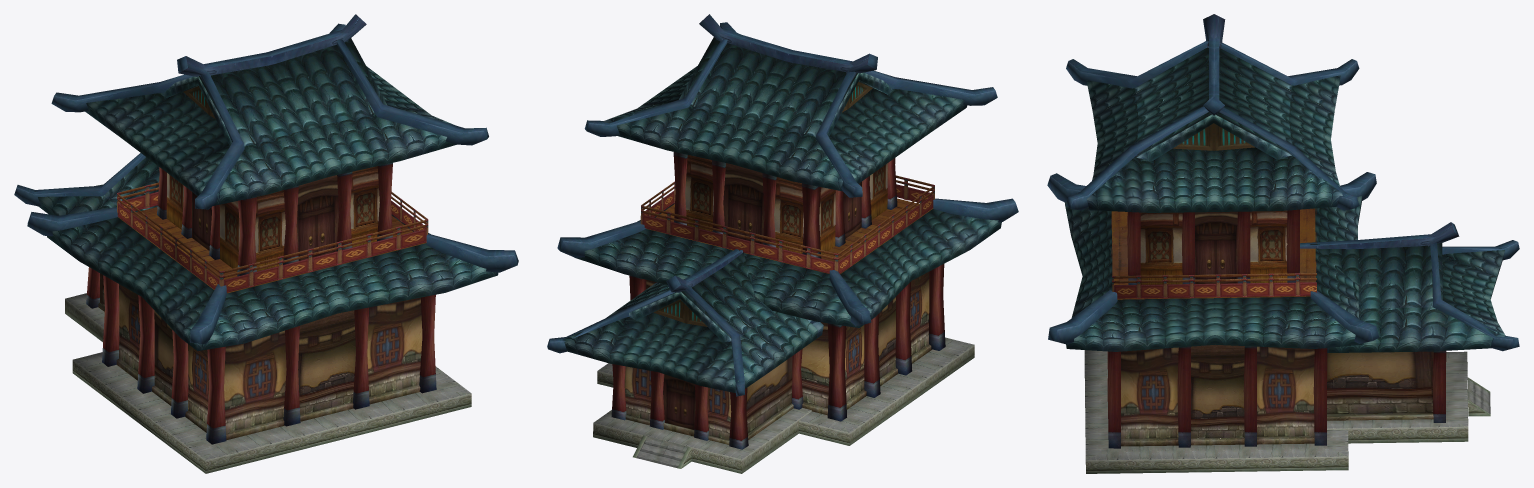
Rendered from environment_Building_qingsangcheng_001_o.FBX.
The picture shows the model from 3 angles, left to right: view 1: azimuth 30°, elevation 25°; view 2: azimuth 150°, elevation 25°; view 3: azimuth 270°, elevation 25°; orthographic projection. The views are drawn at different scales.
Visible parts, largest first — view 1: environment_Building_qingsangcheng_001_o02, environment_Building_qingsangcheng_001_o10, environment_Building_qingsangcheng_001_o03, environment_Building_qingsangcheng_001_o11, environment_Building_qingsangcheng_001_o01, environment_Building_qingsangcheng_001_o08, environment_Building_qingsangcheng_001_o06, environment_Building_qingsangcheng_001_o04, environment_Building_qingsangcheng_001_o05, environment_Building_qingsangcheng_001_o09; view 2: environment_Building_qingsangcheng_001_o02, environment_Building_qingsangcheng_001_o10, environment_Building_qingsangcheng_001_o11, environment_Building_qingsangcheng_001_o01, environment_Building_qingsangcheng_001_o05, environment_Building_qingsangcheng_001_o08, environment_Building_qingsangcheng_001_o04, environment_Building_qingsangcheng_001_o03, environment_Building_qingsangcheng_001_o06, environment_Building_qingsangcheng_001_o09, environment_Building_qingsangcheng_001_o07; view 3: environment_Building_qingsangcheng_001_o02, environment_Building_qingsangcheng_001_o11, environment_Building_qingsangcheng_001_o01, environment_Building_qingsangcheng_001_o06, environment_Building_qingsangcheng_001_o03, environment_Building_qingsangcheng_001_o10, environment_Building_qingsangcheng_001_o04, environment_Building_qingsangcheng_001_o08, environment_Building_qingsangcheng_001_o05, environment_Building_qingsangcheng_001_o09, environment_Building_qingsangcheng_001_o07.
Part boxes in pixels (left/top/right/bottom): environment_Building_qingsangcheng_001_o02: left=34, top=38, right=498, bottom=351; environment_Building_qingsangcheng_001_o10: left=86, top=163, right=436, bottom=444; environment_Building_qingsangcheng_001_o03: left=116, top=284, right=422, bottom=440; environment_Building_qingsangcheng_001_o11: left=14, top=14, right=518, bottom=344; environment_Building_qingsangcheng_001_o01: left=65, top=293, right=471, bottom=473; environment_Building_qingsangcheng_001_o08: left=117, top=182, right=428, bottom=292; environment_Building_qingsangcheng_001_o06: left=100, top=273, right=355, bottom=415; environment_Building_qingsangcheng_001_o04: left=166, top=166, right=379, bottom=271; environment_Building_qingsangcheng_001_o05: left=98, top=175, right=339, bottom=311; environment_Building_qingsangcheng_001_o09: left=118, top=207, right=426, bottom=293; environment_Building_qingsangcheng_001_o02: left=562, top=37, right=1001, bottom=392; environment_Building_qingsangcheng_001_o10: left=611, top=152, right=945, bottom=449; environment_Building_qingsangcheng_001_o11: left=547, top=14, right=1018, bottom=396; environment_Building_qingsangcheng_001_o01: left=593, top=337, right=974, bottom=473; environment_Building_qingsangcheng_001_o05: left=624, top=163, right=861, bottom=444; environment_Building_qingsangcheng_001_o08: left=640, top=175, right=934, bottom=273; environment_Building_qingsangcheng_001_o04: left=685, top=155, right=887, bottom=254; environment_Building_qingsangcheng_001_o03: left=646, top=272, right=931, bottom=415; environment_Building_qingsangcheng_001_o06: left=746, top=297, right=895, bottom=434; environment_Building_qingsangcheng_001_o09: left=646, top=198, right=933, bottom=274; environment_Building_qingsangcheng_001_o07: left=653, top=81, right=872, bottom=326; environment_Building_qingsangcheng_001_o02: left=1064, top=47, right=1505, bottom=352; environment_Building_qingsangcheng_001_o11: left=1047, top=14, right=1519, bottom=351; environment_Building_qingsangcheng_001_o01: left=1084, top=350, right=1490, bottom=473; environment_Building_qingsangcheng_001_o06: left=1191, top=344, right=1433, bottom=438; environment_Building_qingsangcheng_001_o03: left=1121, top=346, right=1314, bottom=446; environment_Building_qingsangcheng_001_o10: left=1107, top=209, right=1446, bottom=448; environment_Building_qingsangcheng_001_o04: left=1140, top=210, right=1287, bottom=284; environment_Building_qingsangcheng_001_o08: left=1111, top=208, right=1316, bottom=298; environment_Building_qingsangcheng_001_o05: left=1195, top=211, right=1433, bottom=420; environment_Building_qingsangcheng_001_o09: left=1111, top=208, right=1315, bottom=299; environment_Building_qingsangcheng_001_o07: left=1173, top=123, right=1254, bottom=150.
Size of the model in its own units: 1479 by 1838 by 1526.
11 materials, 11 textured.
